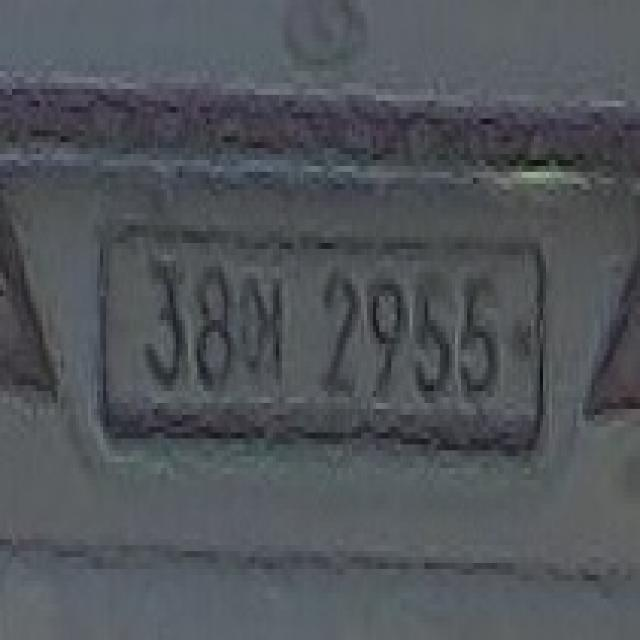2: (318, 267, 358, 397)
3: (137, 261, 188, 385)
5: (409, 267, 455, 403), (458, 267, 497, 397)
8: (194, 267, 234, 391)
9: (364, 267, 406, 397)
eo: (234, 267, 288, 391)
license_plate: (100, 225, 546, 445)
